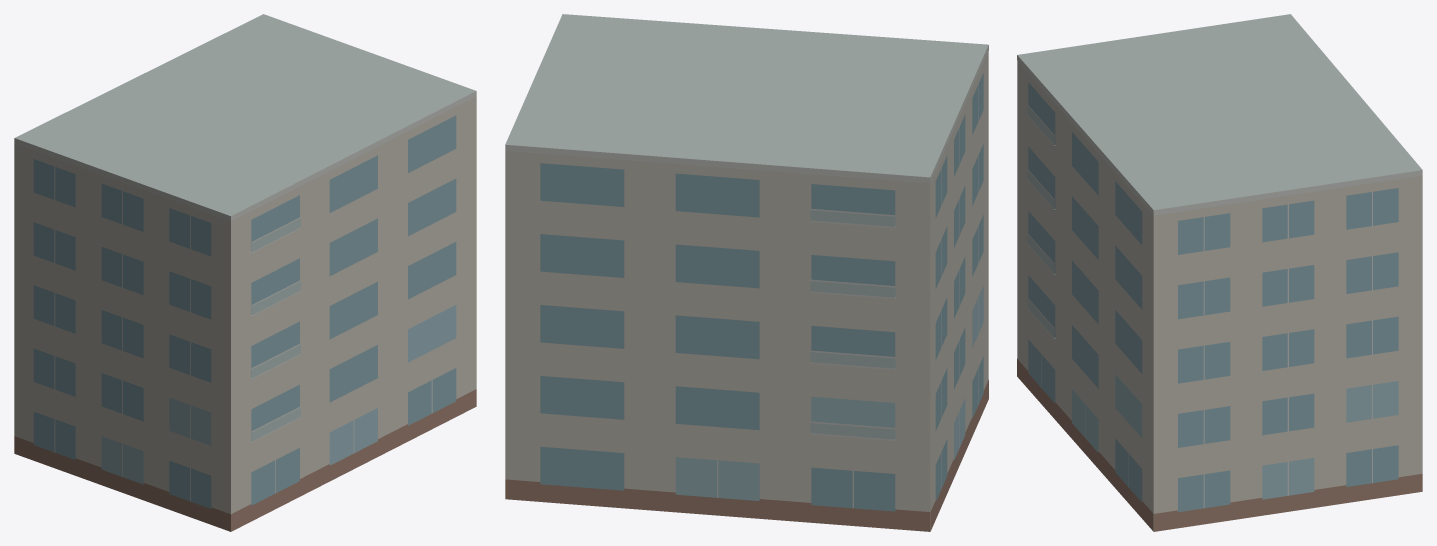
The model's file is survey-upis-32866021.glb.
3 views of the same model, side by side, from view 1: azimuth 30°, elevation 25°; view 2: azimuth 150°, elevation 25°; view 3: azimuth 270°, elevation 25° (orthographic). The views are drawn at different scales.
Parts seen in each view (by area): view 1: survey-upis-32866021.tmp; view 2: survey-upis-32866021.tmp; view 3: survey-upis-32866021.tmp.
Part boxes in pixels (x1,y1,x2,y2): survey-upis-32866021.tmp: [14, 14, 476, 531]; survey-upis-32866021.tmp: [505, 14, 988, 531]; survey-upis-32866021.tmp: [1017, 14, 1422, 531].
Size of the model in its own units: 18.73 by 14.3 by 16.35.
